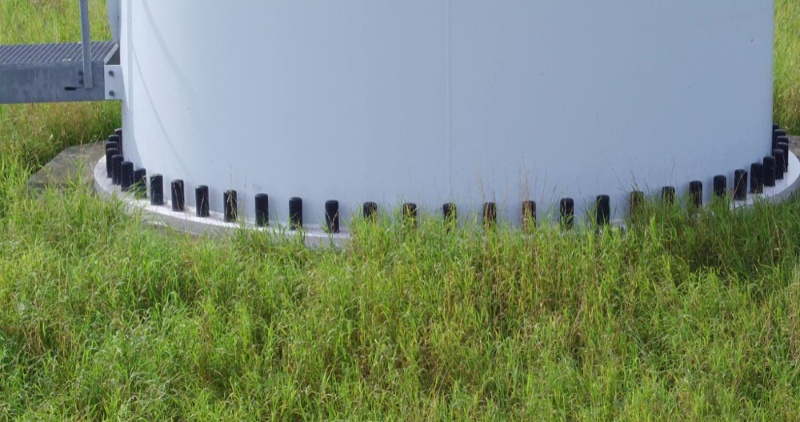weldseam: (437, 1, 458, 202)
